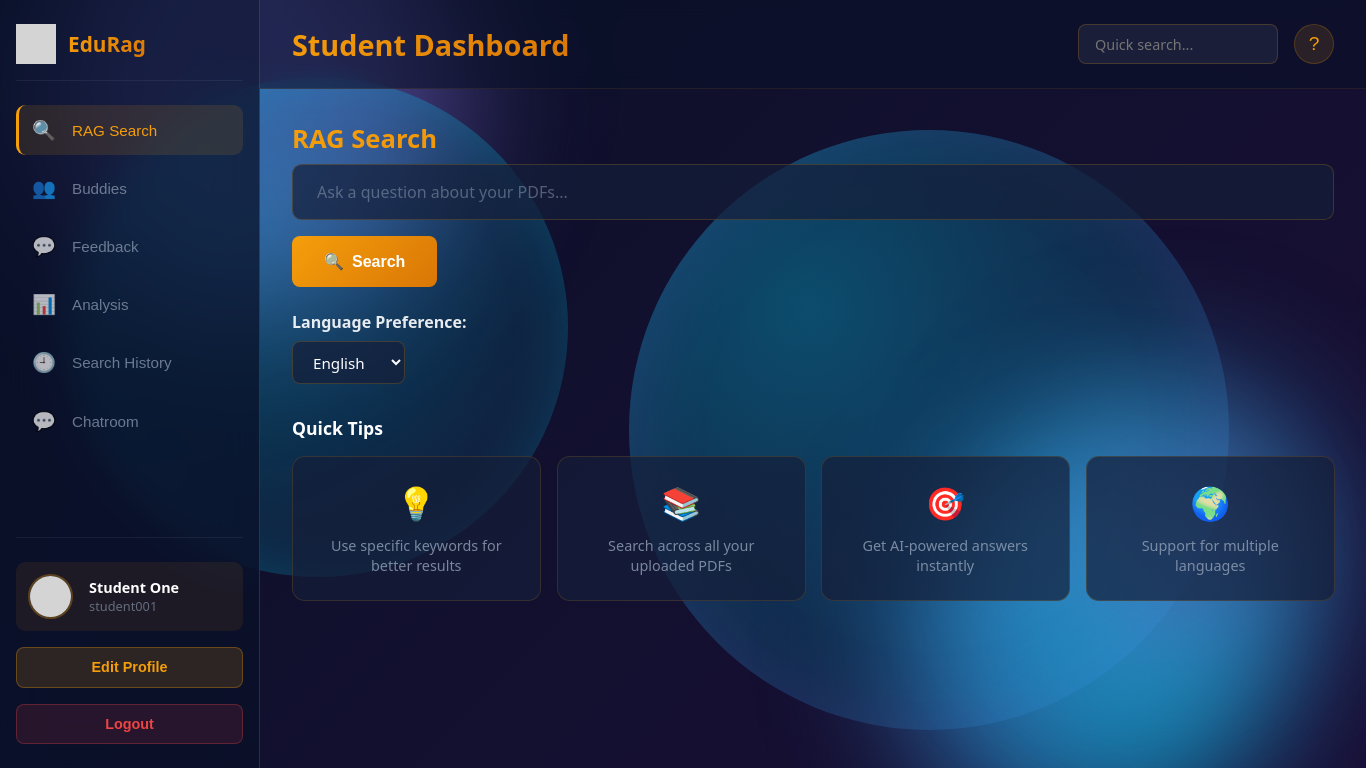
StudentDashboard › renders history tab and shows history records
Expected: the heading "Student Dashboard" is shown, [292,25,570,64]
What coordinates should you click on to do the following:
click the button "🕘 Search History"
I would click on:
 (130, 363)
Its box is [16,338,243,388].
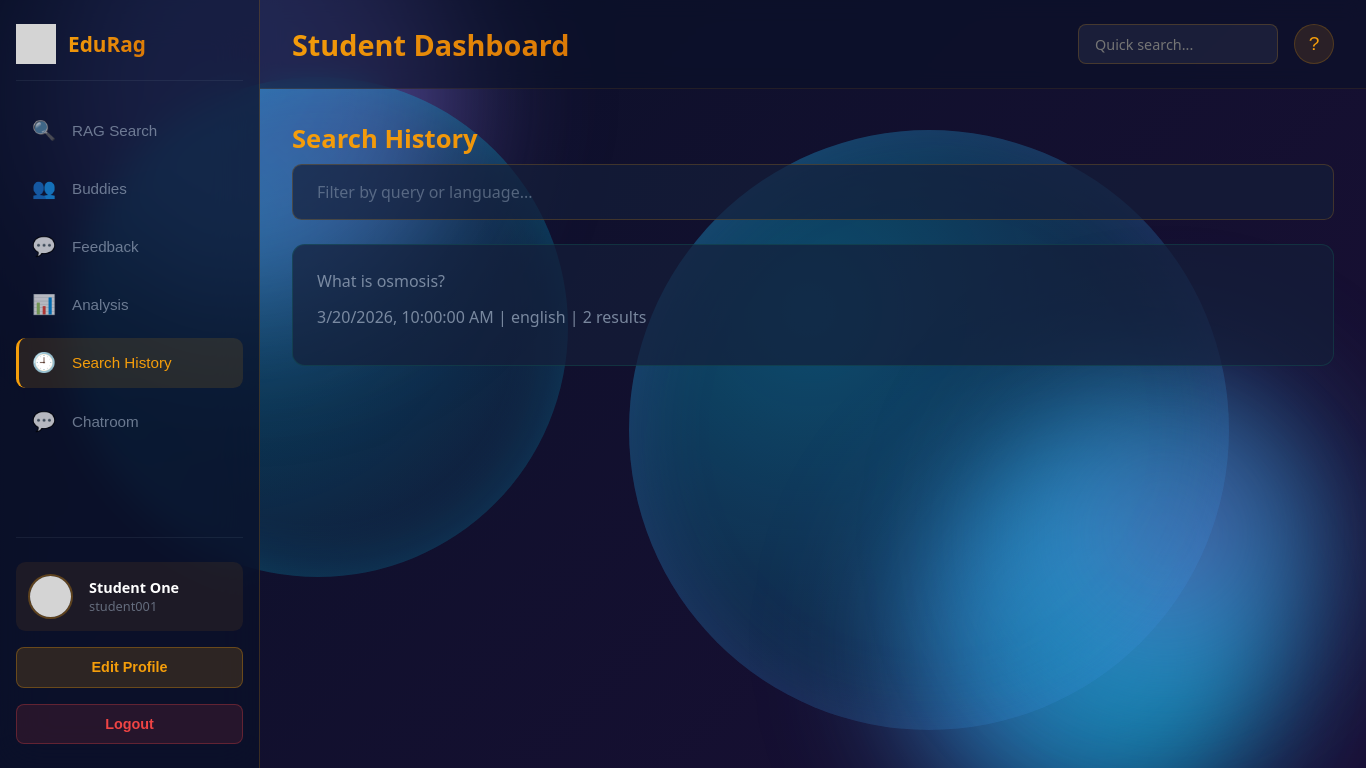
Now the heading "Search History" is shown, box [292,121,1334,156]
Now the text "What is osmosis?" is shown, box [317,270,445,292]
